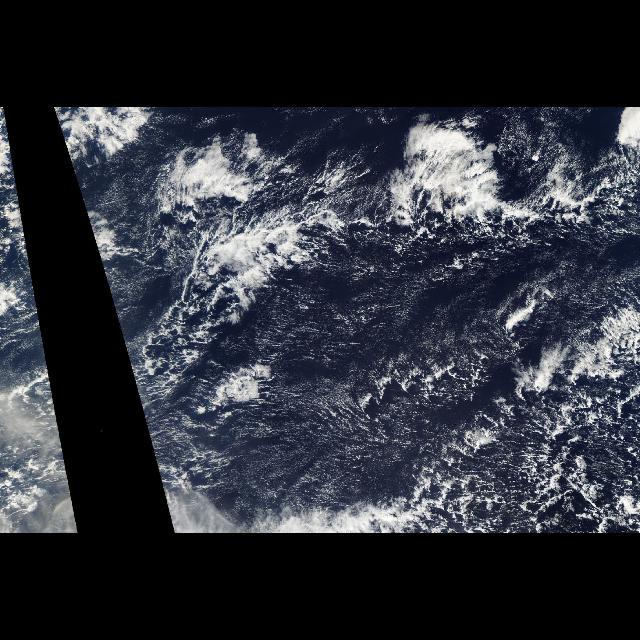Fish: (123, 124, 625, 430)
Gravel: (118, 143, 572, 380), (346, 294, 640, 532)
Sugar: (155, 240, 635, 532), (478, 112, 614, 176)
